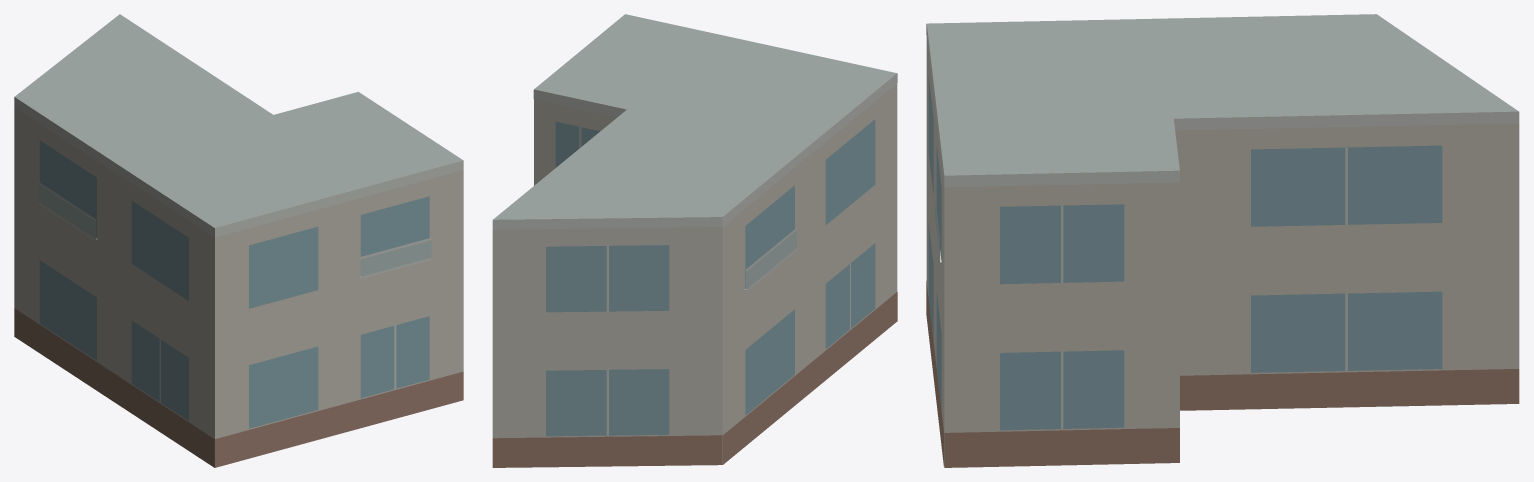
The model's file is survey-upis-32494273.glb.
3 views of the same model, side by side, from view 1: azimuth 30°, elevation 25°; view 2: azimuth 150°, elevation 25°; view 3: azimuth 270°, elevation 25° (orthographic). The views are drawn at different scales.
Parts seen in each view (by area): view 1: survey-upis-32494273.tmp; view 2: survey-upis-32494273.tmp; view 3: survey-upis-32494273.tmp.
Part boxes in pixels (x1,y1,x2,y2): survey-upis-32494273.tmp: [14, 14, 463, 467]; survey-upis-32494273.tmp: [492, 14, 897, 467]; survey-upis-32494273.tmp: [926, 14, 1519, 467].
Bounding box in the file's own units: 7.25 × 6.1 × 11.22.
